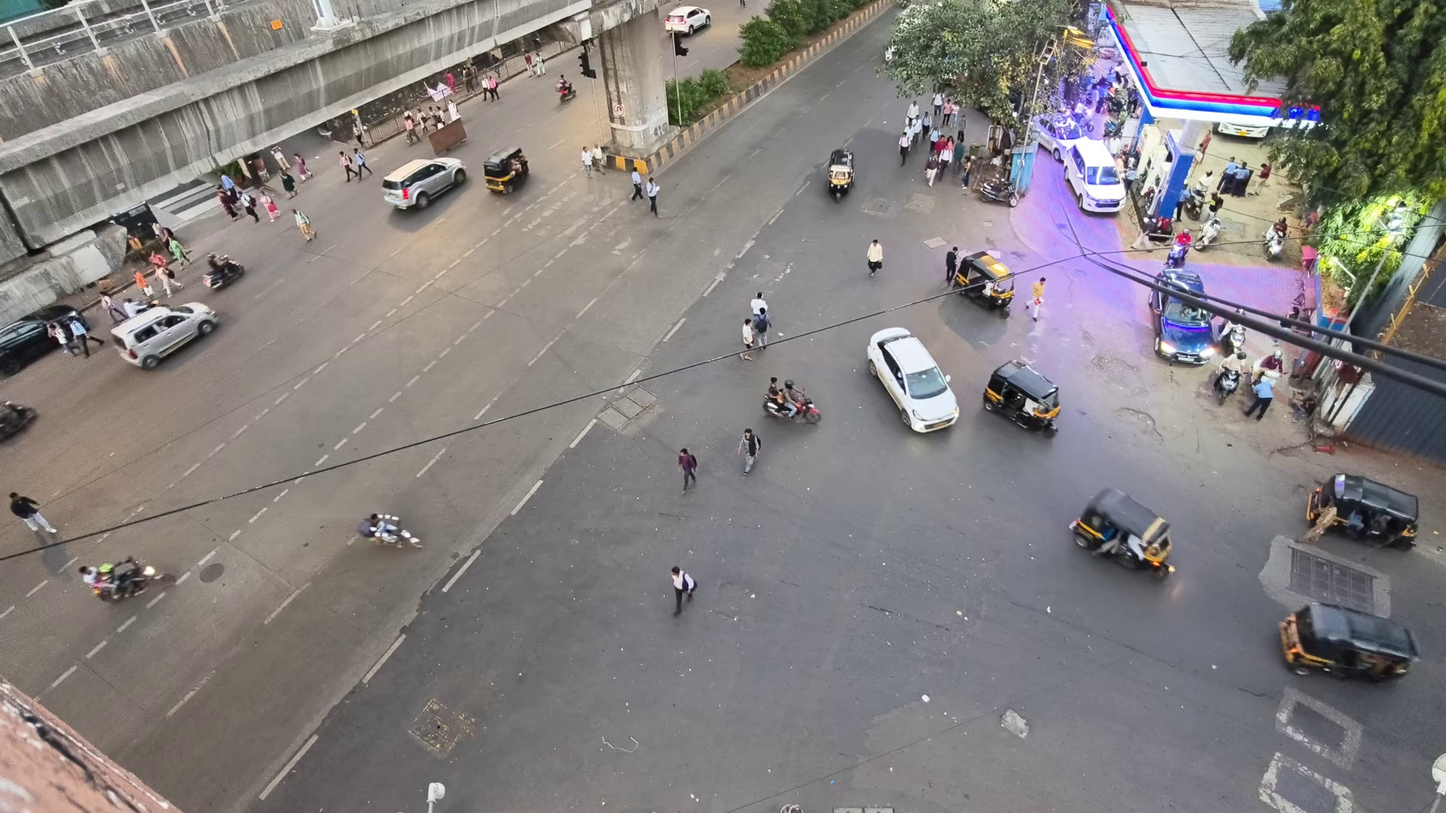driving: (866, 327, 957, 432), (111, 302, 218, 369), (1149, 290, 1216, 364), (383, 157, 465, 209), (664, 5, 710, 35)
walking: (10, 492, 57, 533), (69, 315, 103, 357), (1244, 377, 1274, 420), (671, 567, 696, 615), (738, 428, 761, 475), (154, 266, 183, 297), (99, 291, 127, 323), (47, 321, 73, 355), (678, 447, 697, 492), (752, 308, 770, 349), (292, 209, 315, 241), (352, 148, 374, 179), (218, 186, 237, 220), (740, 318, 755, 360), (167, 236, 188, 266), (866, 239, 883, 276), (1031, 276, 1045, 320), (258, 192, 279, 221), (239, 191, 258, 222), (339, 151, 358, 181), (403, 110, 419, 145), (645, 177, 659, 216), (133, 269, 152, 297), (961, 155, 975, 192), (271, 145, 290, 172), (293, 153, 310, 181), (945, 247, 957, 284), (898, 129, 910, 165), (630, 166, 642, 202), (925, 154, 938, 187), (750, 291, 767, 315), (281, 171, 295, 198), (591, 144, 604, 172), (581, 146, 593, 176), (932, 91, 944, 118), (354, 120, 366, 146), (487, 75, 499, 100), (906, 101, 919, 124), (533, 51, 545, 75), (524, 51, 536, 75), (220, 173, 235, 190)
